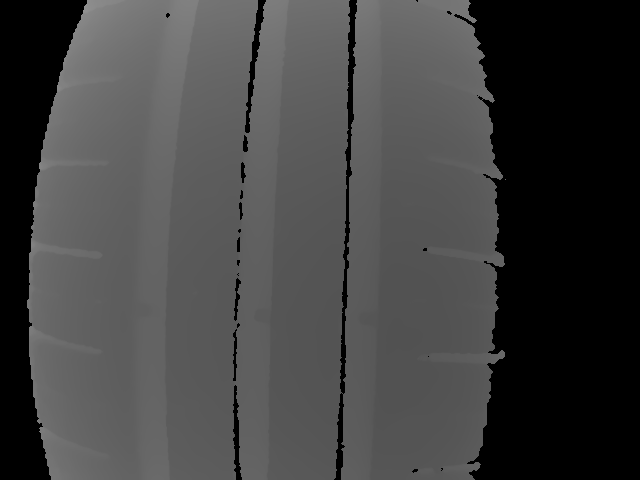high: (382, 275, 388, 296)
low: (362, 275, 367, 297)
